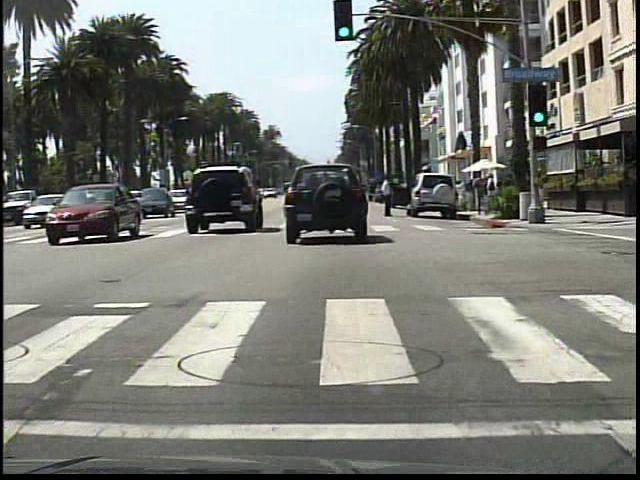person: (377, 168, 399, 220)
